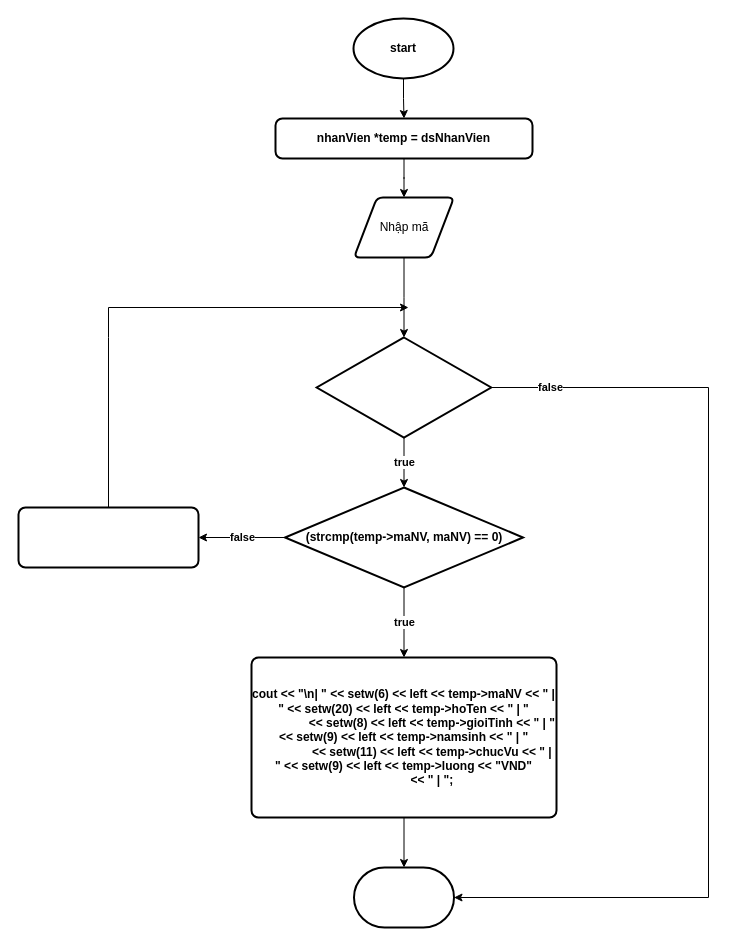
Image size: 734x945. Some labels were removed from this diagram. The shapes that lost their labels are listed below. From the top down, each one's centre as x and y in pixels, then its label:
At point 403,387: "temp != nullptr".
At point 108,537: "temp = temp->next".
At point 403,897: "end".
